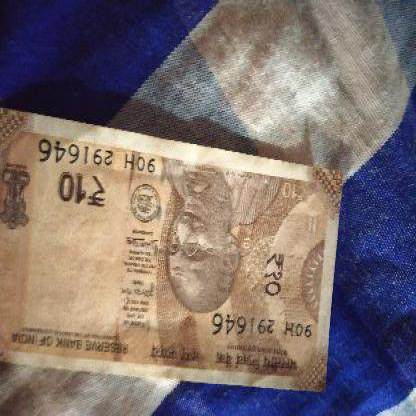New10Front: (0, 105, 328, 388)
